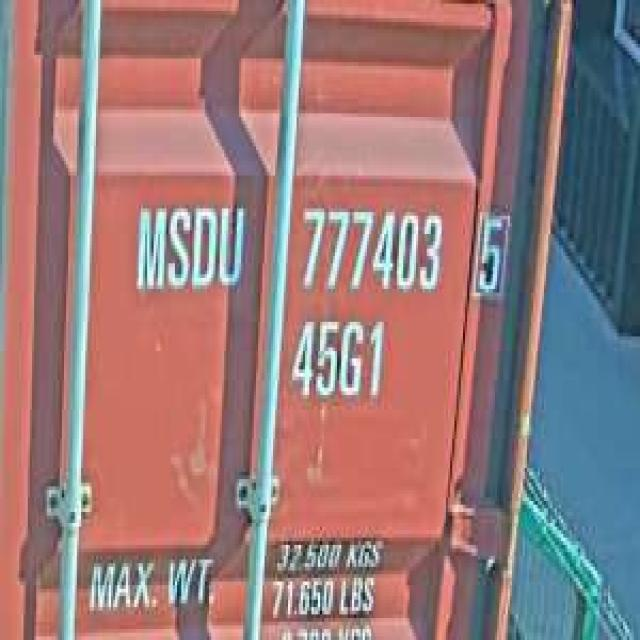dv: (469, 201, 510, 304)
owner: (128, 194, 247, 300)
serial: (294, 198, 446, 304)
size: (286, 307, 388, 410)
